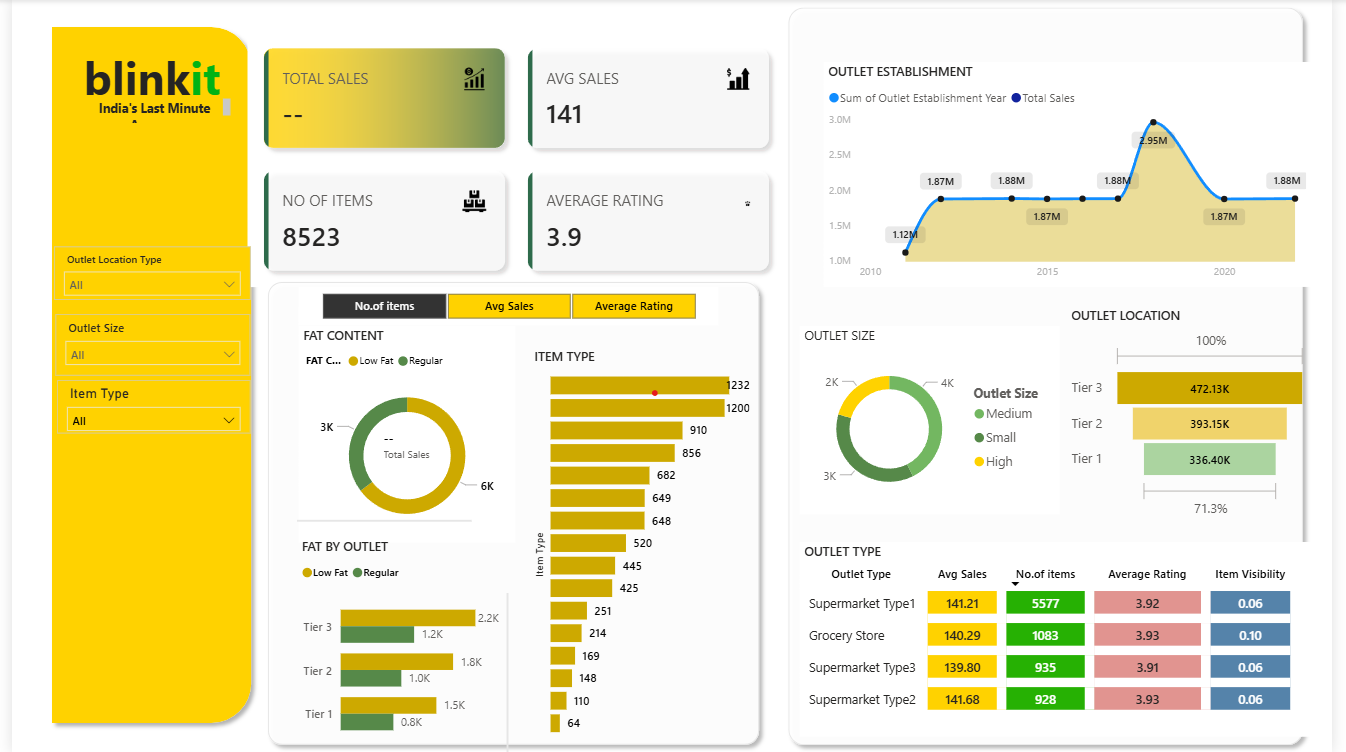

The dashboard page shown, as its layout file describes it:
{"tool":"powerbi","page":{"name":"Page 1","canvas":[1400,800],"ordinal":0},"visuals":[{"type":"shape","box":[33.1,20.7,229.4,756.5],"z":0},{"type":"textbox","box":[296.9,424.2,229.8,125.5],"z":1},{"type":"textbox","box":[60.1,44.2,176.7,74.2],"z":2},{"type":"textbox","box":[47.7,100.7,189.1,35.3],"z":3},{"type":"cardVisual","fields":{"Data":["BlinkIT Grocery Data.Total Sales","BlinkIT Grocery Data.Avg Sales","BlinkIT Grocery Data.No.of items","BlinkIT Grocery Data.Average Rating"]},"box":[249.2,35.3,570.9,270.4],"z":4},{"type":"shape","box":[263.3,291.6,539,509],"z":5},{"type":"donutChart","title":"FAT CONTENT","fields":{"Category":["BlinkIT Grocery Data.Item Fat Content"],"Y":["BlinkIT Grocery Data.No.of items","select"]},"box":[304,346.4,229.8,229.8],"z":6},{"type":"slicer","fields":{"Values":["Metrics.Metrics"]},"box":[304,305.8,445.4,40.6],"z":7},{"type":"cardVisual","fields":{"Data":["BlinkIT Grocery Data.Total Sales"]},"box":[376.4,438.3,84.8,72.5],"z":8},{"type":"clusteredBarChart","title":"FAT BY OUTLET","fields":{"Y":["BlinkIT Grocery Data.No.of items"],"Category":["BlinkIT Grocery Data.Outlet Location Type"],"Series":["BlinkIT Grocery Data.Item Fat Content"]},"box":[302.2,570.9,219.2,229.8],"z":9},{"type":"shape","box":[302.2,475.4,185.6,155.5],"z":10},{"type":"shape","box":[256.3,630.9,539,169.7],"z":12},{"type":"barChart","title":"ITEM TYPE","fields":{"Category":["BlinkIT Grocery Data.Item Type"],"Y":["BlinkIT Grocery Data.No.of items"]},"box":[549.6,369.4,238.6,413.6],"z":13},{"type":"textbox","box":[860,21,540,270],"z":14},{"type":"shape","box":[814.7,0,563.8,800.6],"z":15},{"type":"lineChart","title":"OUTLET ESTABLISHMENT","fields":{"Y":["Sum(BlinkIT Grocery Data.Outlet Establishment Year)","BlinkIT Grocery Data.Total Sales","BlinkIT Grocery Data.Total Sales"],"Category":["BlinkIT Grocery Data.Outlet Establishment Year"]},"box":[860.7,67.2,517,238.6],"z":16},{"type":"donutChart","title":"OUTLET SIZE","fields":{"Y":["BlinkIT Grocery Data.No.of items","BlinkIT Grocery Data.Total Sales"],"Category":["BlinkIT Grocery Data.Outlet Size"]},"box":[836,346.4,275.7,199.7],"z":17},{"type":"funnel","title":"OUTLET LOCATION","fields":{"Y":["Sum(BlinkIT Grocery Data.Sales)"],"Category":["BlinkIT Grocery Data.Outlet Location Type"]},"box":[1118.7,327,259.8,229.8],"z":18},{"type":"pivotTable","title":"OUTLET TYPE","fields":{"Rows":["BlinkIT Grocery Data.Outlet Type"],"Values":["BlinkIT Grocery Data.Avg Sales","BlinkIT Grocery Data.No.of items","BlinkIT Grocery Data.Average Rating","Avg(BlinkIT Grocery Data.Item Visibility)"]},"box":[836,576.2,542.6,206.8],"z":19},{"type":"slicer","fields":{"Values":["BlinkIT Grocery Data.Outlet Location Type"]},"box":[44.2,263.3,208.5,56.6],"z":20},{"type":"slicer","fields":{"Values":["BlinkIT Grocery Data.Outlet Size"]},"box":[46,334,206.8,65.4],"z":21},{"type":"slicer","fields":{"Values":["BlinkIT Grocery Data.Item Type"]},"box":[47.7,404.7,205,56.6],"z":22}]}

Visuals, with their boxes in screenshot pixels (x1, y1, x2, y2), scaled from the page's 1400x800 canvas onto the 1346x752 screenshot:
shape: <box>32,19,252,731</box>
textbox: <box>285,399,506,517</box>
textbox: <box>58,42,228,111</box>
textbox: <box>46,95,228,128</box>
cardVisual - BlinkIT Grocery Data.Total Sales x BlinkIT Grocery Data.Avg Sales: <box>240,33,788,287</box>
shape: <box>253,274,771,751</box>
"FAT CONTENT" donutChart: <box>292,326,513,542</box>
slicer - Metrics.Metrics: <box>292,287,720,326</box>
cardVisual - BlinkIT Grocery Data.Total Sales: <box>362,412,443,480</box>
"FAT BY OUTLET" clusteredBarChart: <box>291,537,501,751</box>
shape: <box>291,447,469,593</box>
shape: <box>246,593,765,751</box>
"ITEM TYPE" barChart: <box>528,347,758,736</box>
textbox: <box>827,20,1345,274</box>
shape: <box>783,0,1325,751</box>
"OUTLET ESTABLISHMENT" lineChart: <box>828,63,1325,287</box>
"OUTLET SIZE" donutChart: <box>804,326,1069,513</box>
"OUTLET LOCATION" funnel: <box>1076,307,1325,523</box>
"OUTLET TYPE" pivotTable: <box>804,542,1325,736</box>
slicer - BlinkIT Grocery Data.Outlet Location Type: <box>42,248,243,301</box>
slicer - BlinkIT Grocery Data.Outlet Size: <box>44,314,243,375</box>
slicer - BlinkIT Grocery Data.Item Type: <box>46,380,243,434</box>
